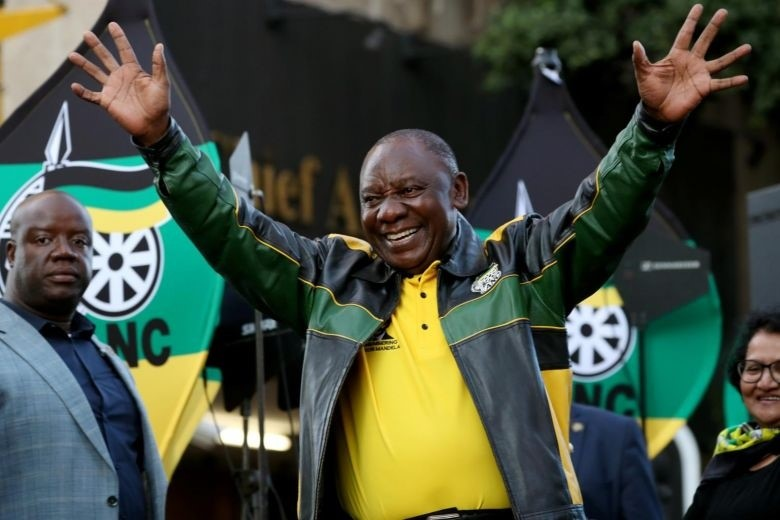face_no_mask: (361, 129, 469, 267), (9, 192, 93, 314), (728, 312, 780, 420)
